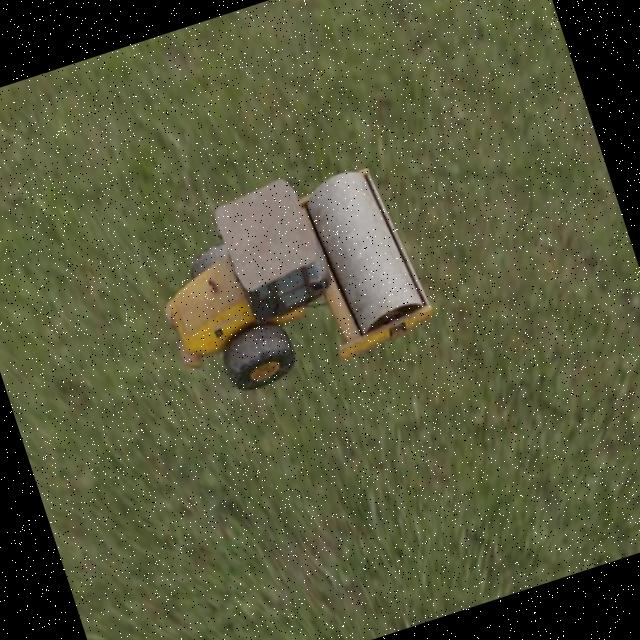Roller: (136, 146, 440, 410)
